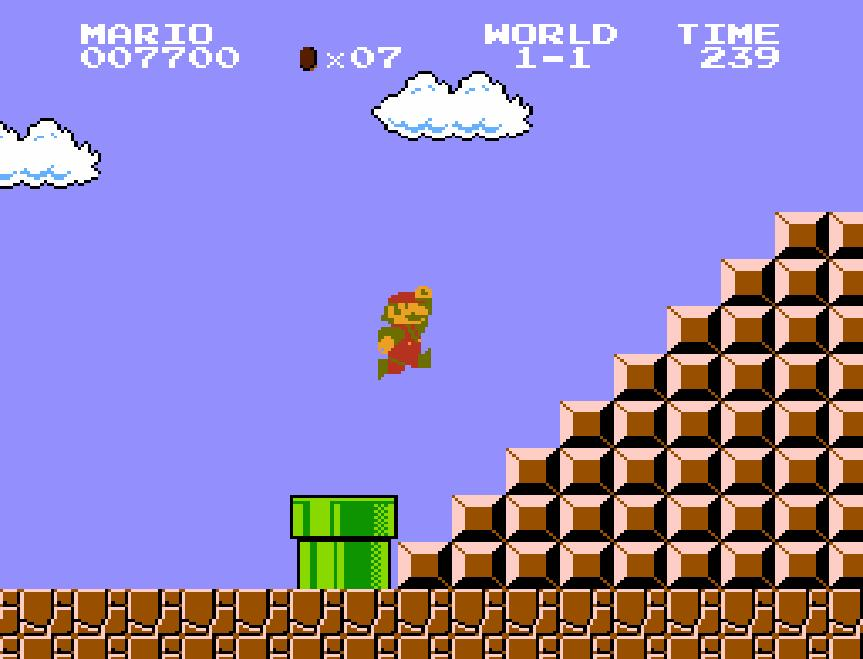big_mario: (376, 284, 434, 382)
